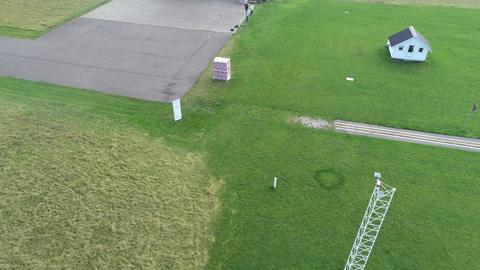RockwoolPallet: (213, 57, 231, 81)
